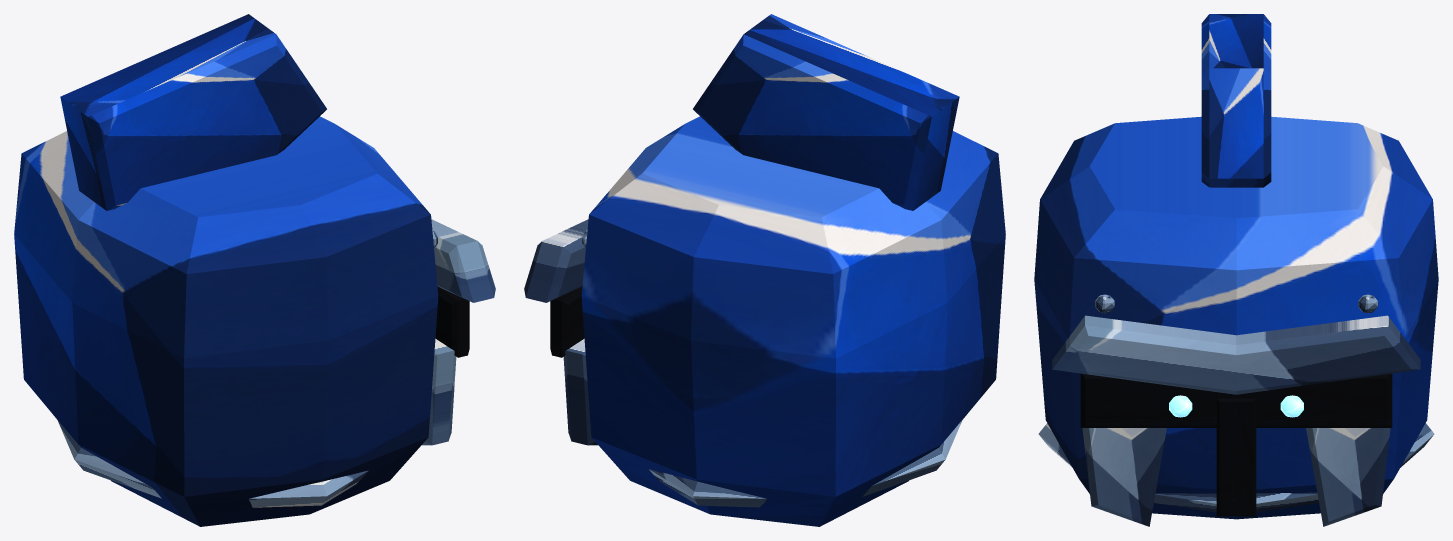
The model's file is cobalt-helmet.glb.
3 renders of one model, left to right at view 1: azimuth 30°, elevation 25°; view 2: azimuth 150°, elevation 25°; view 3: azimuth 270°, elevation 25°, orthographic.
Parts seen in each view (by area): view 1: head; view 2: head; view 3: head.
Part boxes in pixels (left/top/right/bottom): head: left=14, top=14, right=495, bottom=526; head: left=524, top=14, right=1005, bottom=526; head: left=1034, top=14, right=1438, bottom=526.
Size of the model in its own units: 0.4073 by 0.4869 by 0.4316.
Materials: 4 (4 with a texture image).
